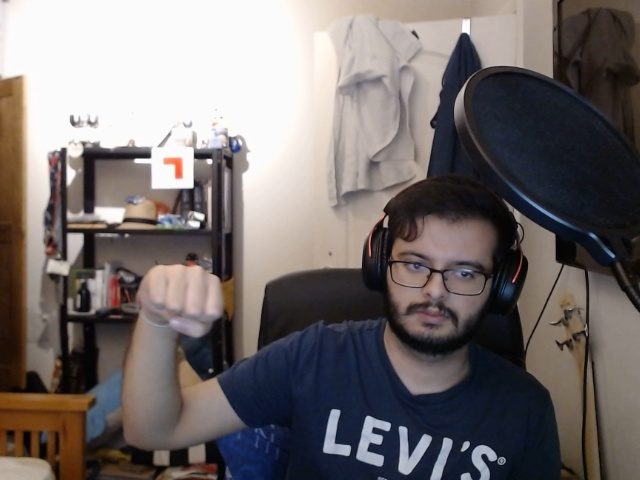Yes: (128, 257, 230, 351)
